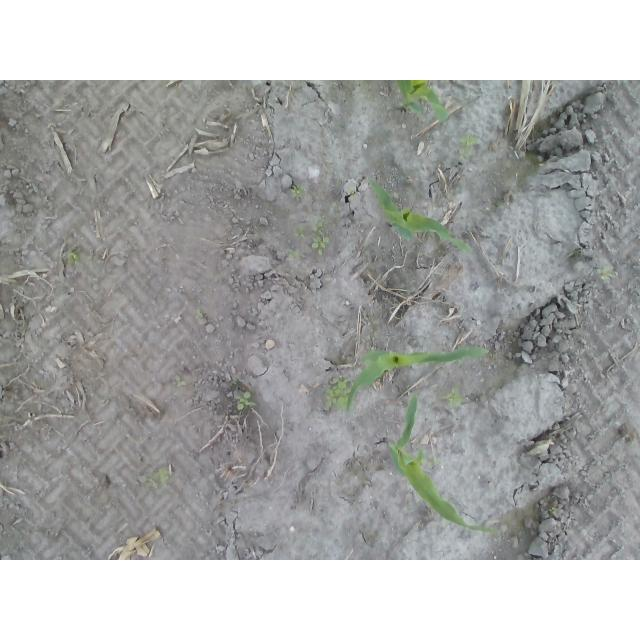Maize: (384, 397, 496, 533), (367, 177, 476, 255), (349, 345, 490, 404), (394, 80, 451, 122)
Weeds: (456, 134, 481, 162), (326, 381, 350, 409), (311, 223, 329, 257), (234, 392, 258, 413), (444, 387, 465, 408), (145, 465, 168, 483), (291, 183, 306, 198), (597, 265, 612, 280), (65, 252, 79, 266), (173, 374, 187, 387), (288, 249, 305, 258), (194, 308, 206, 320), (295, 226, 305, 238), (547, 506, 557, 515)
